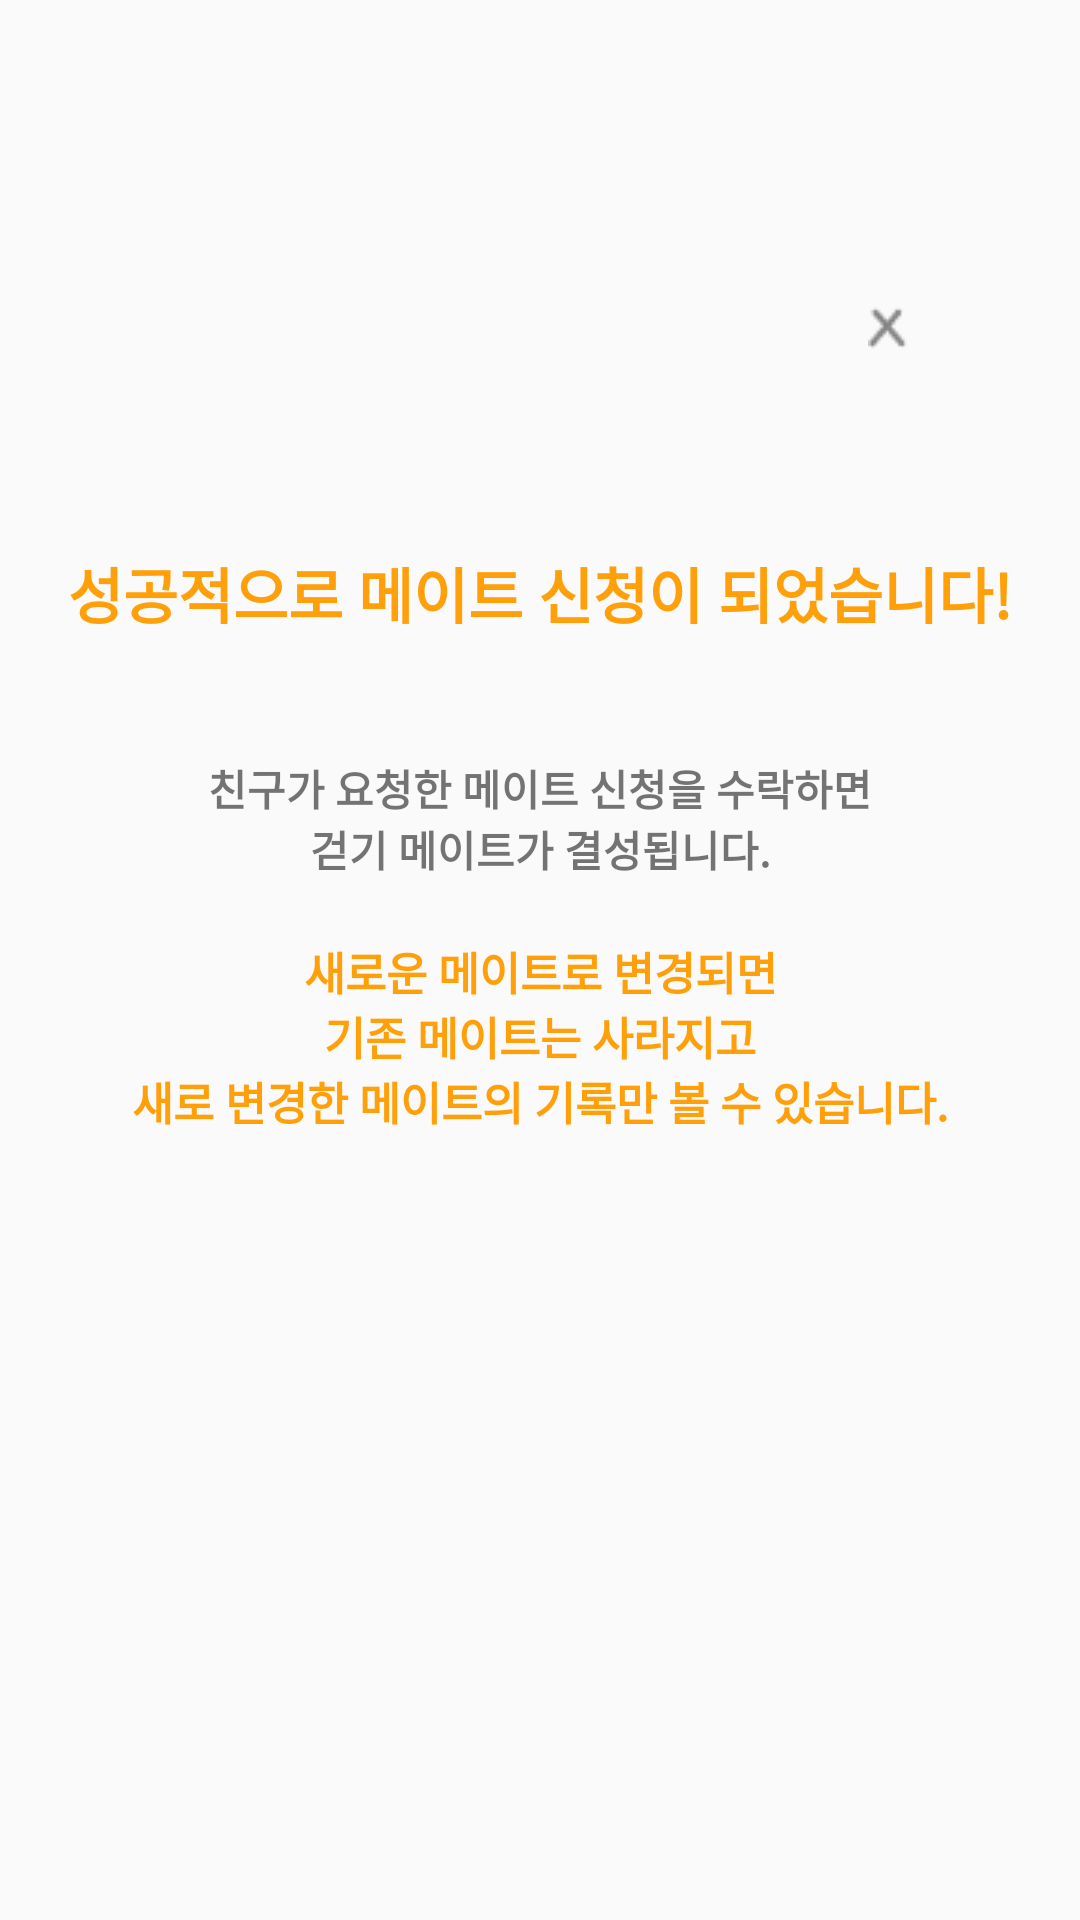

Icons on this 1080*1920 Android screen, each with its box as (x1, y1, x2, y2):
invite exit: (868, 309, 905, 347)
